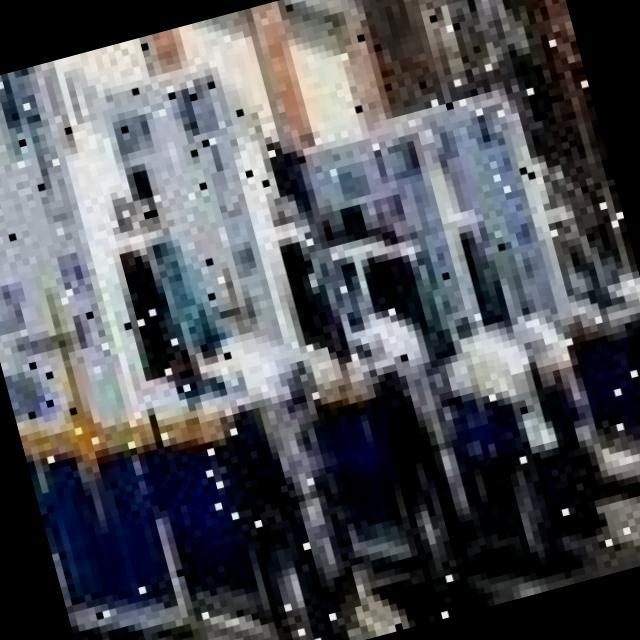emergency-vehicle: (101, 30, 498, 640), (0, 21, 363, 640), (292, 94, 618, 578), (364, 59, 640, 545)
